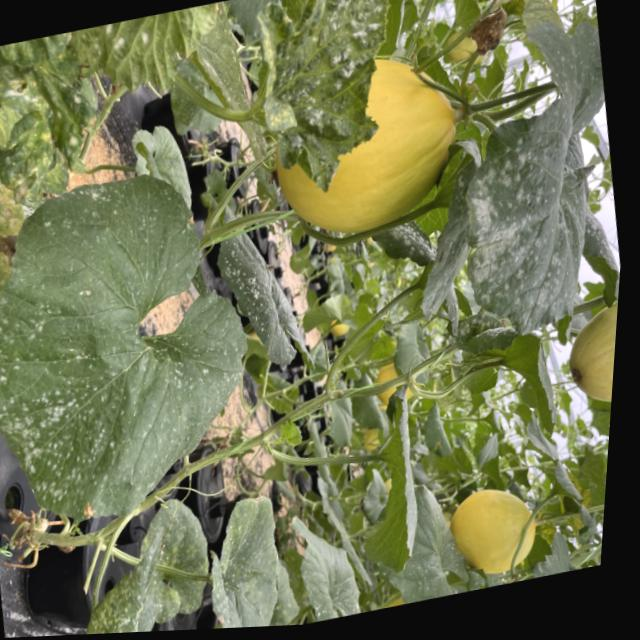SLCV: (238, 0, 417, 199), (0, 23, 137, 212)
alternaria leaf blight: (458, 0, 550, 34)
downy mildew: (0, 118, 273, 530), (53, 488, 227, 636), (206, 202, 313, 384), (96, 0, 242, 121)
healthy: (337, 399, 444, 593), (195, 489, 293, 629), (376, 487, 475, 607), (283, 502, 368, 626)
powdery mildew: (415, 7, 638, 356)
